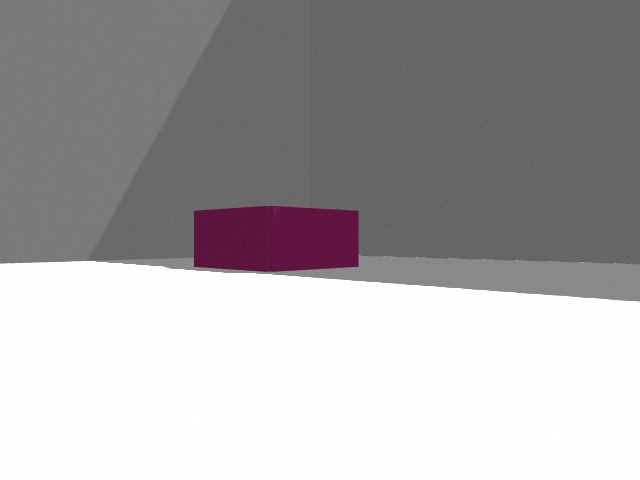red_drop_zone: (194, 206, 359, 272)
